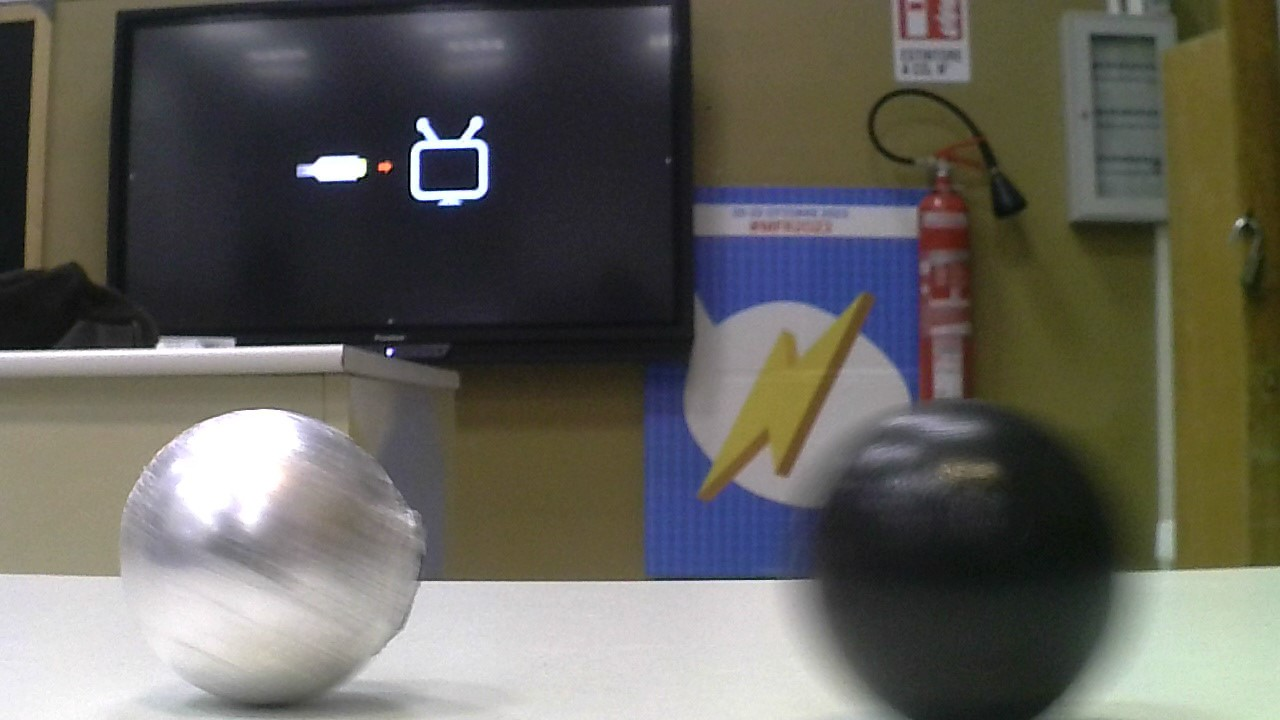black_ball: (802, 394, 1118, 720)
silver_ball: (110, 407, 433, 705)
